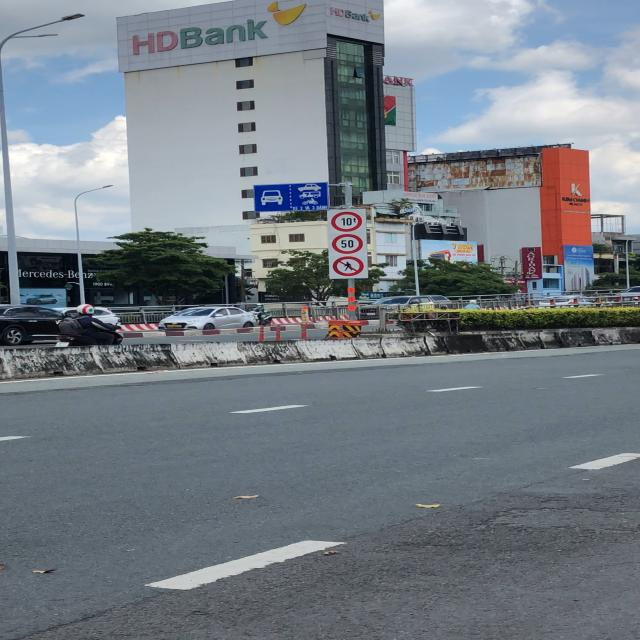Bien bao cam nguoi di bo: (331, 255, 366, 278)
Bien bao toc do toi da cho phep: (331, 232, 363, 255)
